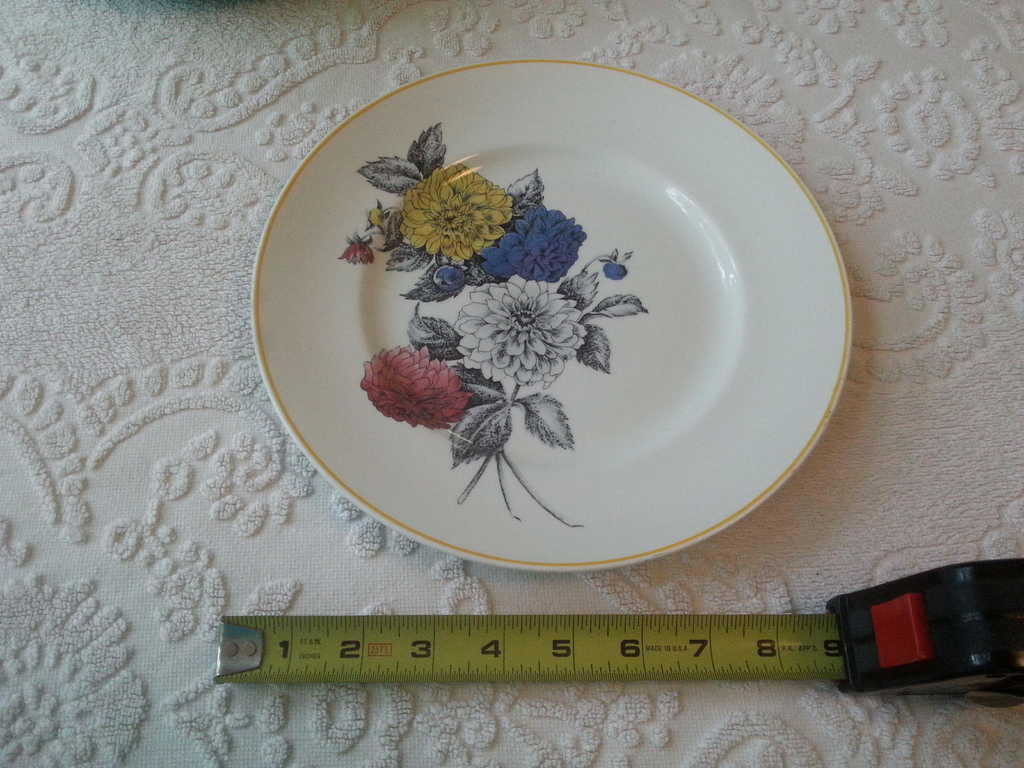plate: (256, 61, 866, 566)
